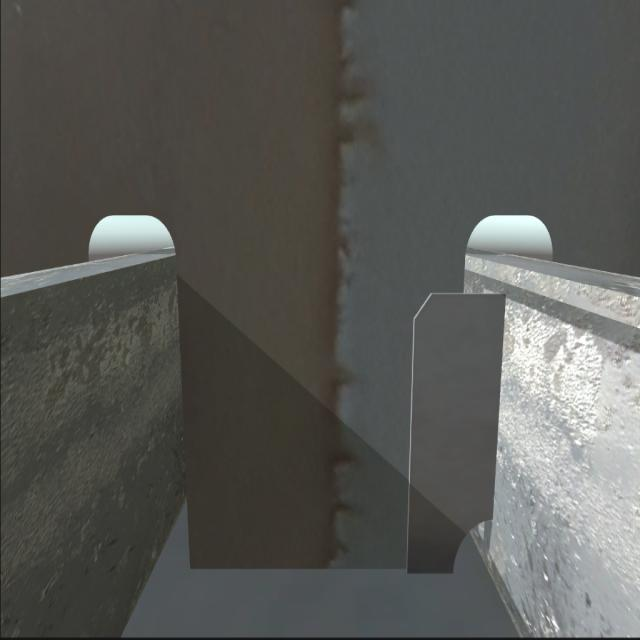fillet_hole: (452, 519, 494, 574)
fillet_yong_jeop_jang: (183, 556, 472, 598)
longi_yong_jeop_jang: (486, 285, 506, 531)
plate_CP03: (409, 289, 503, 573)
